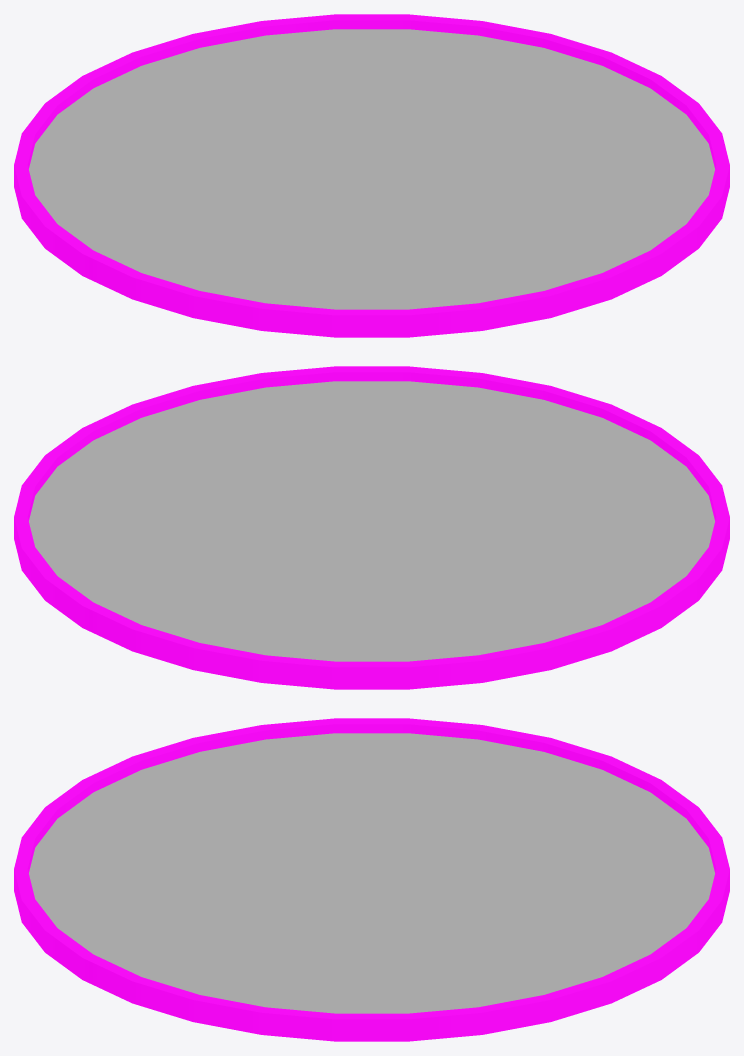
Rendered from SFI0510021.fbx.
3 renders of one model, top to bottom at view 1: azimuth 30°, elevation 25°; view 2: azimuth 150°, elevation 25°; view 3: azimuth 270°, elevation 25°, orthographic.
Parts seen in each view (by area): view 1: smSFI0510021; view 2: smSFI0510021; view 3: smSFI0510021.
Boxes of the visible parts, x1=… form: smSFI0510021: x1=14, y1=14, x2=729, y2=337; smSFI0510021: x1=14, y1=366, x2=729, y2=689; smSFI0510021: x1=14, y1=718, x2=729, y2=1041.
Size of the model in its own units: 199 by 6.83 by 200.
